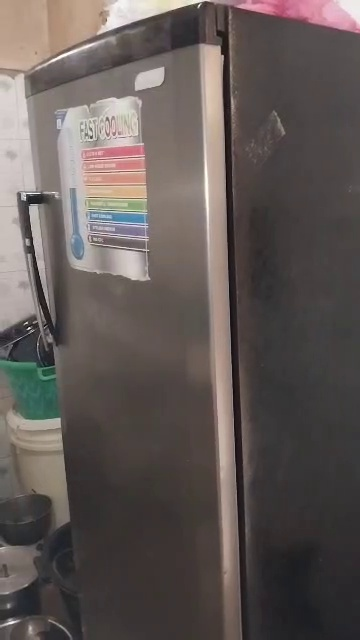refrigerator: (30, 21, 360, 636)
